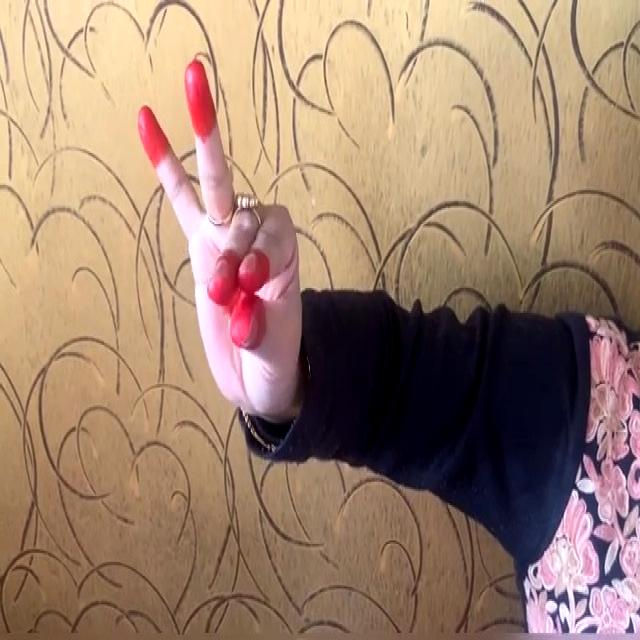Katakamukha: (131, 35, 329, 454)
